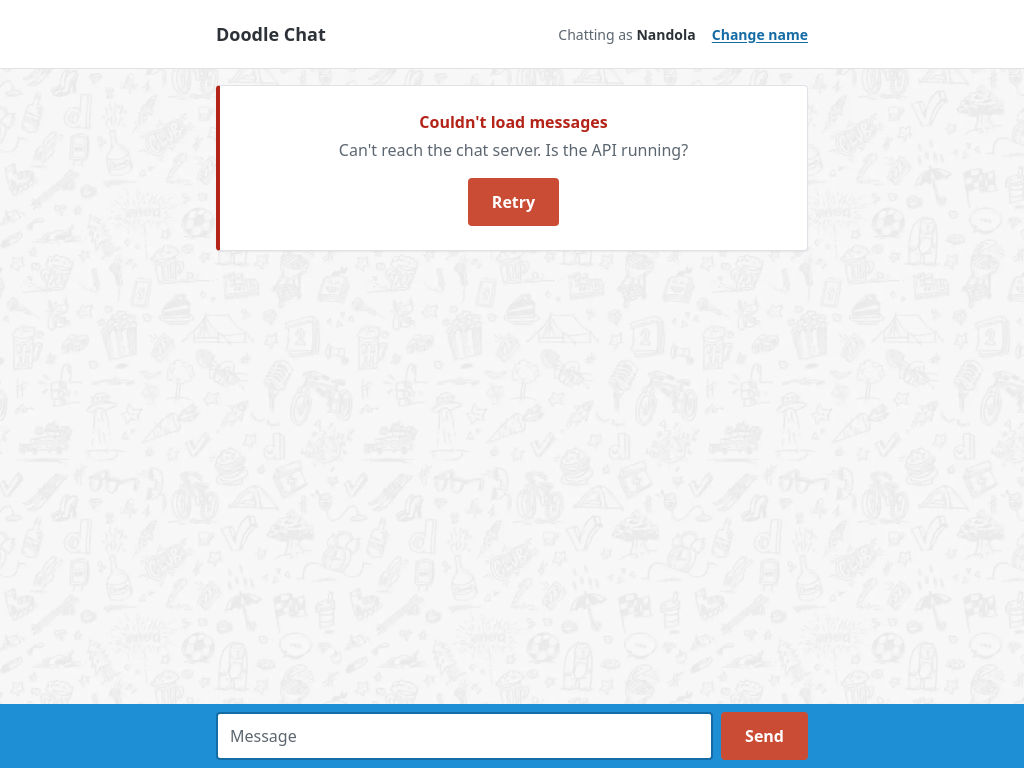
ChatPage › shows the error and recovers when the user retries
expect the message shows "Can't reach the chat server. Is the API running?": met, box [339,139,688,161]
Click the button "Retry": [513, 202] box [468,178,559,226]
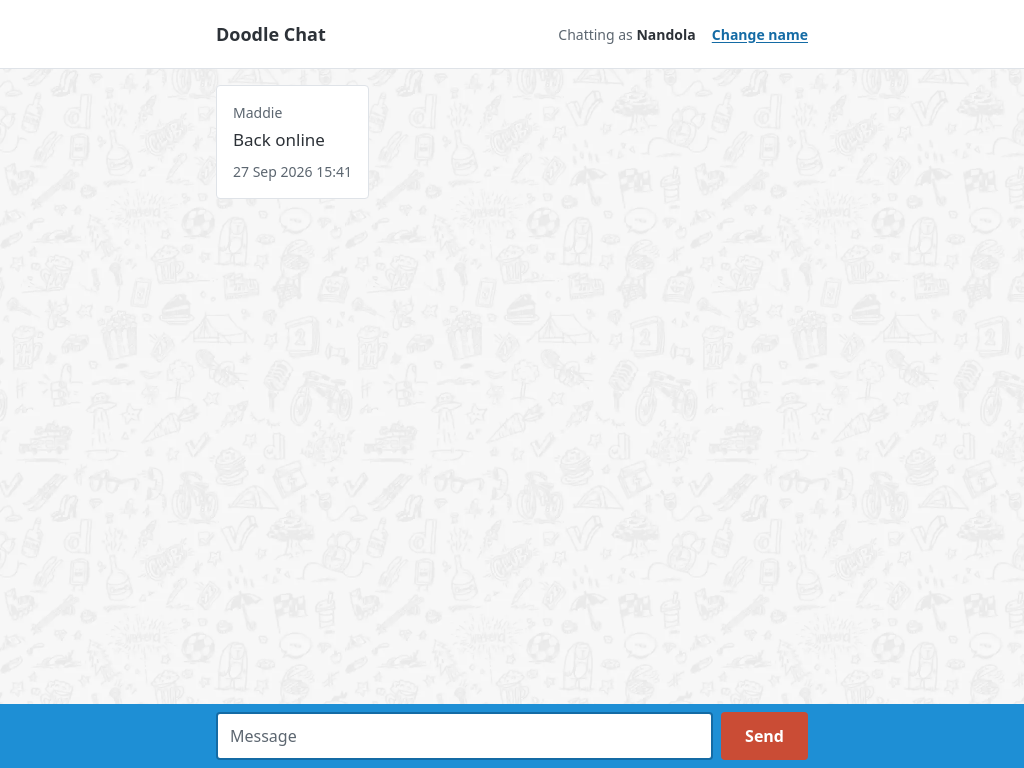
expect the text "Back online" is shown: met, box [233,128,325,151]
expect the message "Couldn't load messages Can't reach the chat server. Is the API running? Retry" is gone: met
